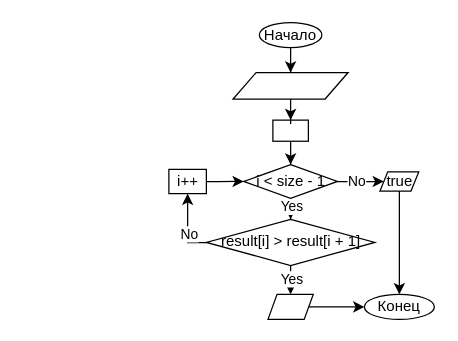
The diagram is 458 pixels wide and 341 high, and some of its shapes have lost their labels. The centre of each missing label's shape, as x and y in pixels:
*result, size: the point at 290,85
false: the point at 290,306
i = 0: the point at 290,130
